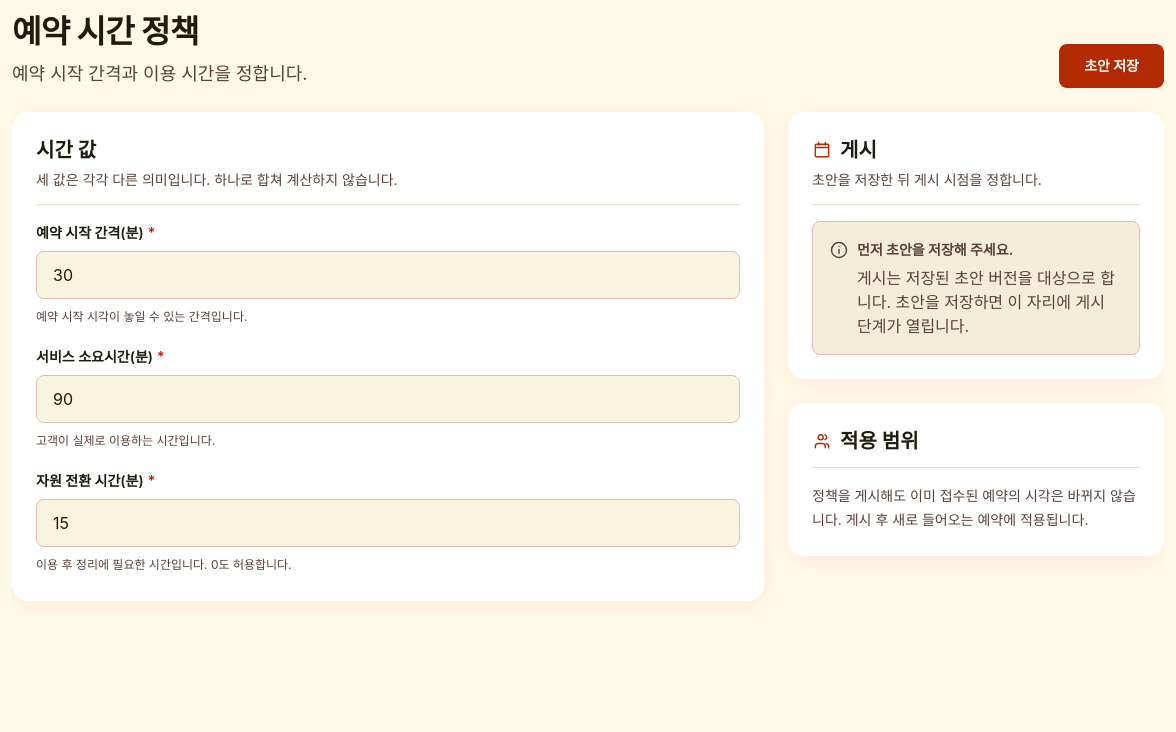
Test: 예약 시간 정책 화면 › 서비스 시간과 전환 시간의 합이 하루를 넘으면 저장하지 않는다
This screenshot has width=1176, height=732.
Replace the text in the field labelled "서비스 소요시간(분)" with "1000" at (388, 399), box 36,375 -> 740,423
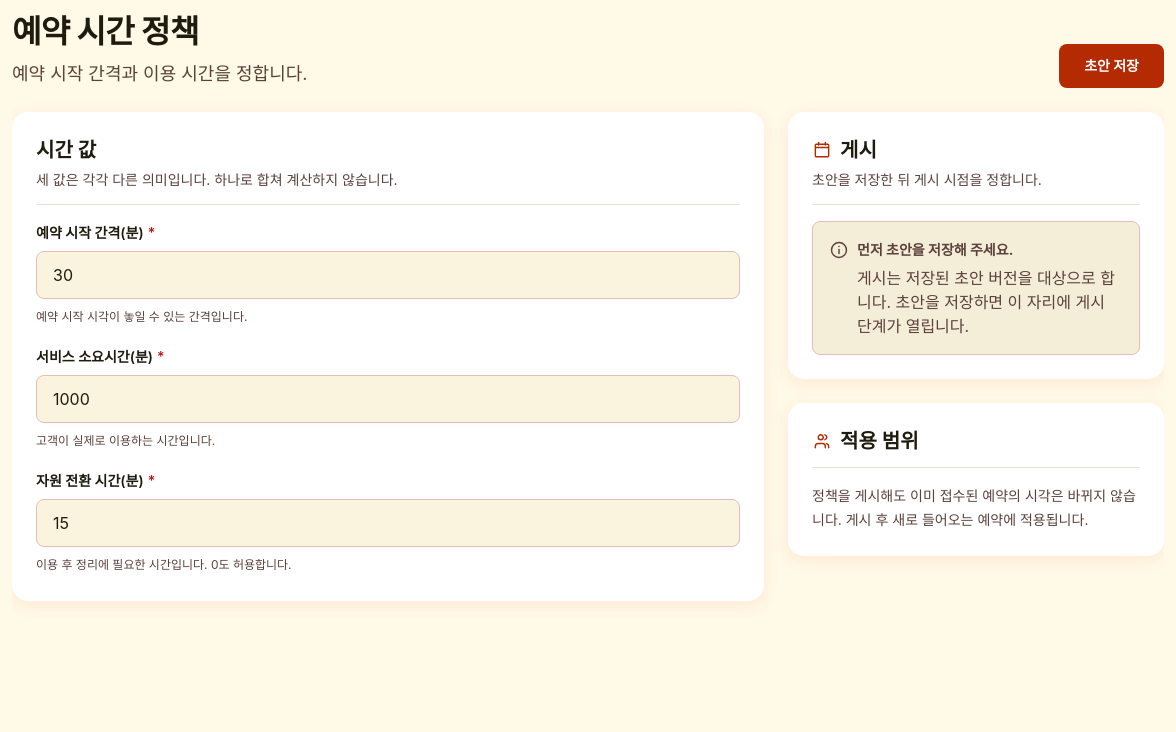
Replace the text in the field labelled "자원 전환 시간(분)" with "600" at (388, 523), box 36,499 -> 740,547
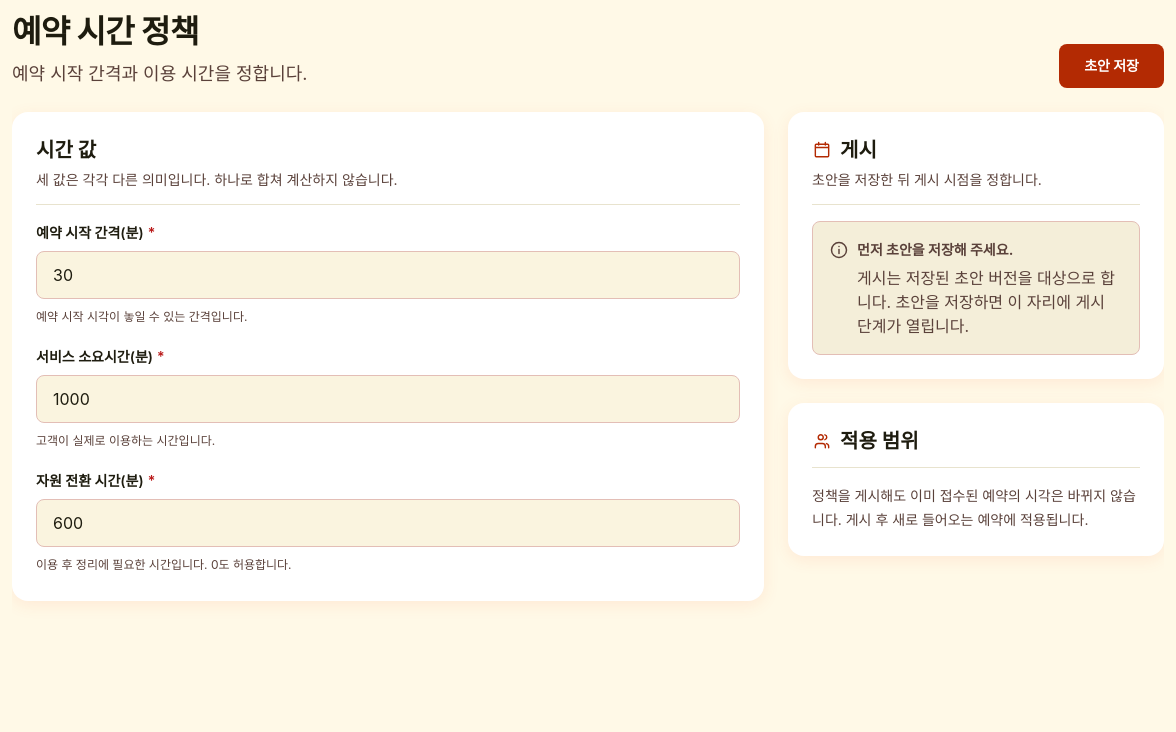
Click the button "초안 저장" at (1112, 66), box 1059,44 -> 1164,88
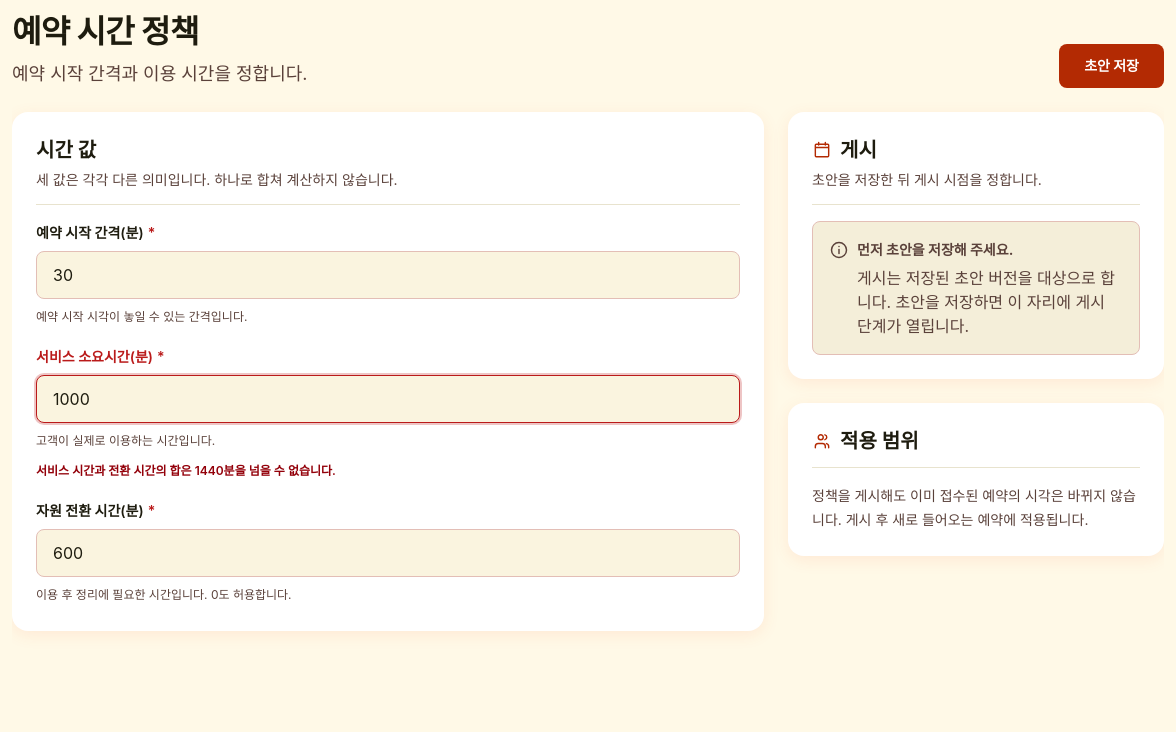
Now the text "서비스 시간과 전환 시간의 합은 1440분을 넘을 수 없습니다." is shown, box 36,463 -> 336,478
